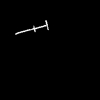double_crochet: (16, 21, 47, 33)
